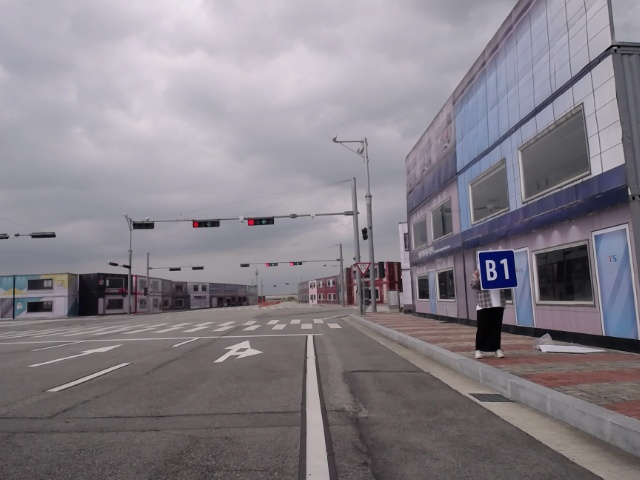delivery_b1: (478, 250, 518, 290)
left_green_4: (248, 216, 274, 226), (192, 220, 220, 228), (290, 261, 303, 266), (266, 263, 278, 267)
